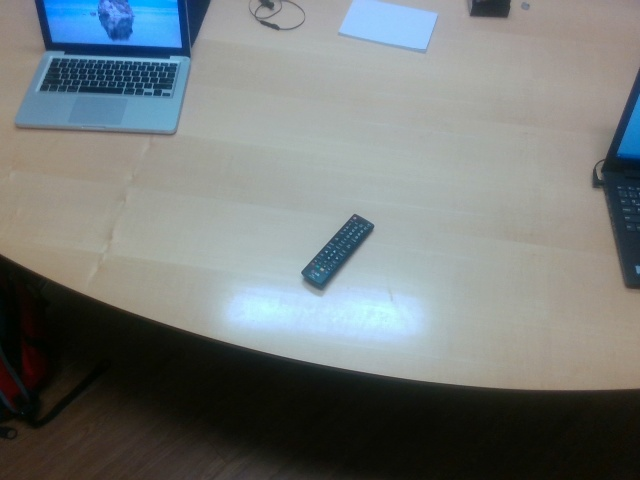remote: (302, 213, 375, 288)
